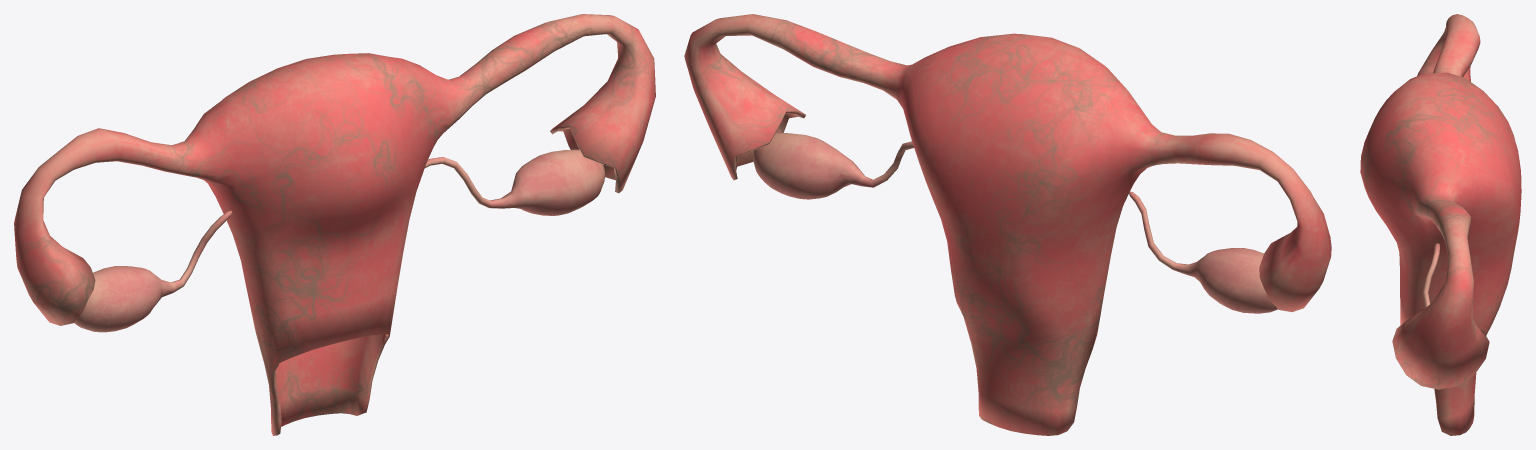
Rendered from Ovary.fbx.
The picture shows the model from 3 angles, left to right: view 1: azimuth 30°, elevation 25°; view 2: azimuth 150°, elevation 25°; view 3: azimuth 270°, elevation 25°; orthographic projection. The views are drawn at different scales.
Parts seen in each view (by area): view 1: Ovary.001, Ovary; view 2: Ovary.001, Ovary; view 3: Ovary.001, Ovary.
Part boxes in pixels (x1,y1,x2,y2): Ovary.001: (14,14,655,435); Ovary: (74,149,604,332); Ovary.001: (684,14,1331,435); Ovary: (753,133,1277,313); Ovary.001: (1360,14,1521,435); Ovary: (1422,243,1439,307).
Size of the model in its own units: 525 by 292 by 130.
